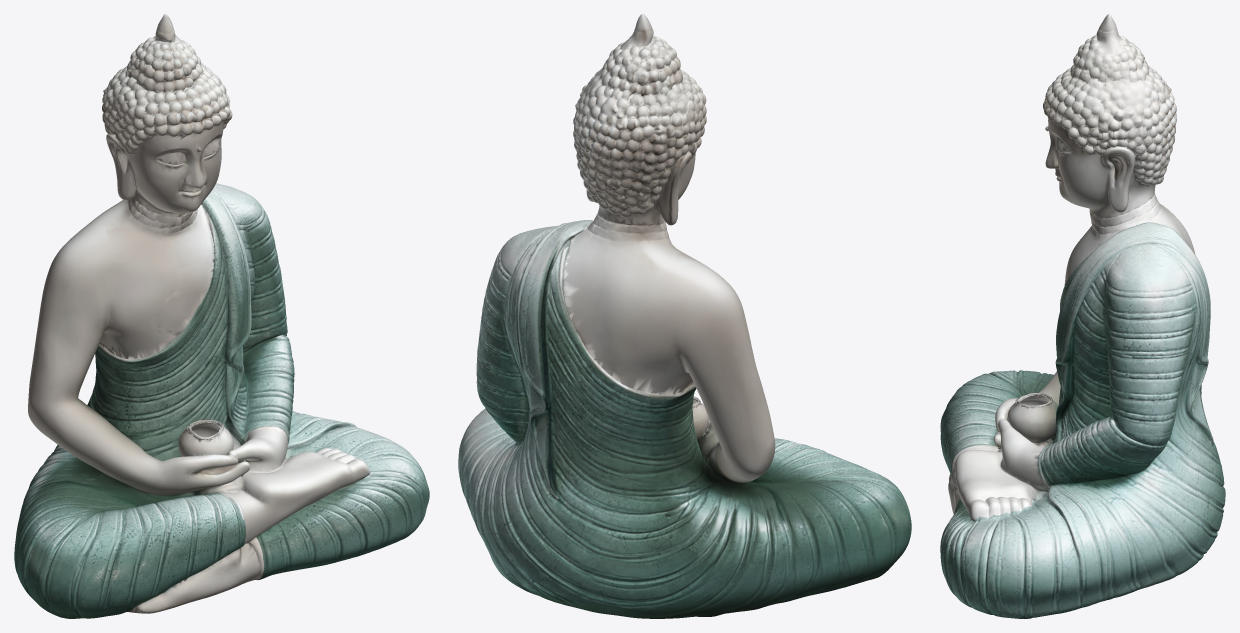
The model's file is buddha_3.glb.
3 renders of one model, left to right at view 1: azimuth 30°, elevation 25°; view 2: azimuth 150°, elevation 25°; view 3: azimuth 270°, elevation 25°, orthographic. The views are drawn at different scales.
Parts seen in each view (by area): view 1: tripo_node_42e1372e-d0ce-4192-b72f-1b802eca7011; view 2: tripo_node_42e1372e-d0ce-4192-b72f-1b802eca7011; view 3: tripo_node_42e1372e-d0ce-4192-b72f-1b802eca7011.
Boxes of the visible parts, x1,y1,x2,y2 form: tripo_node_42e1372e-d0ce-4192-b72f-1b802eca7011: [14, 14, 429, 618]; tripo_node_42e1372e-d0ce-4192-b72f-1b802eca7011: [458, 14, 911, 618]; tripo_node_42e1372e-d0ce-4192-b72f-1b802eca7011: [940, 14, 1225, 618].
Bounding box in the file's own units: 0.7758 × 0.9815 × 0.4898.
Materials: 1 (1 with a texture image).
